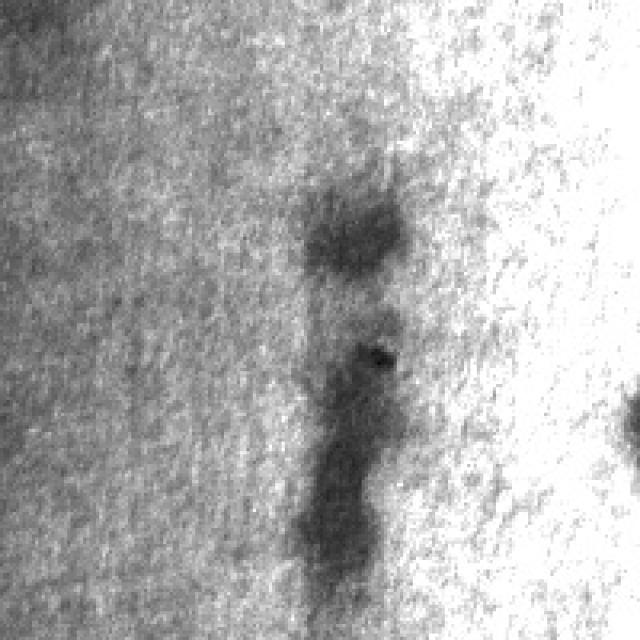patches: (291, 332, 410, 602), (298, 192, 403, 272)
